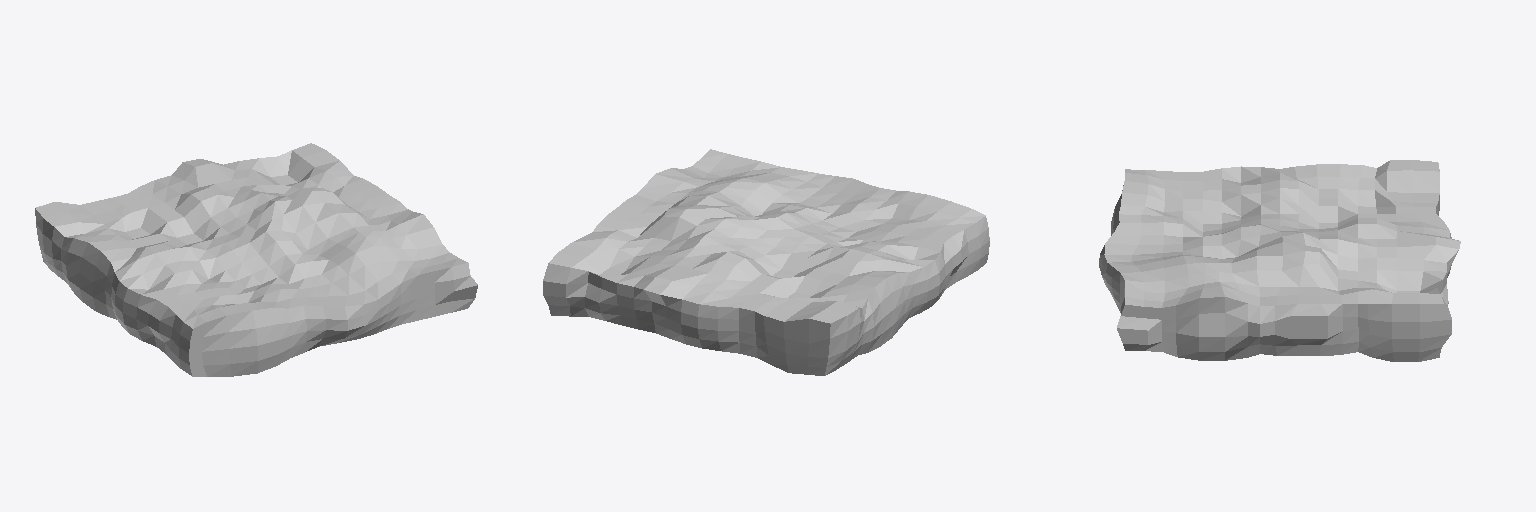
File: focaccia.obj
3 renders of one model, left to right at view 1: azimuth 30°, elevation 25°; view 2: azimuth 150°, elevation 25°; view 3: azimuth 270°, elevation 25°, orthographic.
Visible parts, largest first — view 1: pCube1; view 2: pCube1; view 3: pCube1.
Part boxes in pixels (bbox=[...]): pCube1: bbox=[35, 143, 477, 376]; pCube1: bbox=[543, 149, 989, 375]; pCube1: bbox=[1099, 160, 1460, 361].
Size of the model in its own units: 11.27 by 2.74 by 11.57.